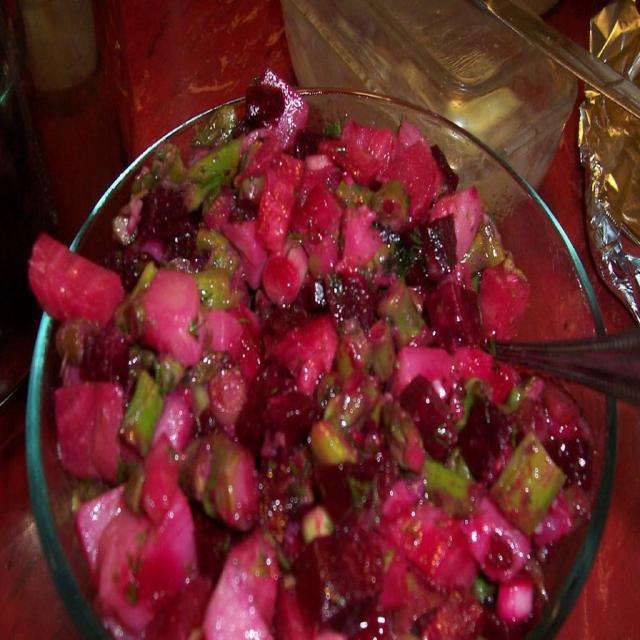Salad: (27, 70, 588, 640)
